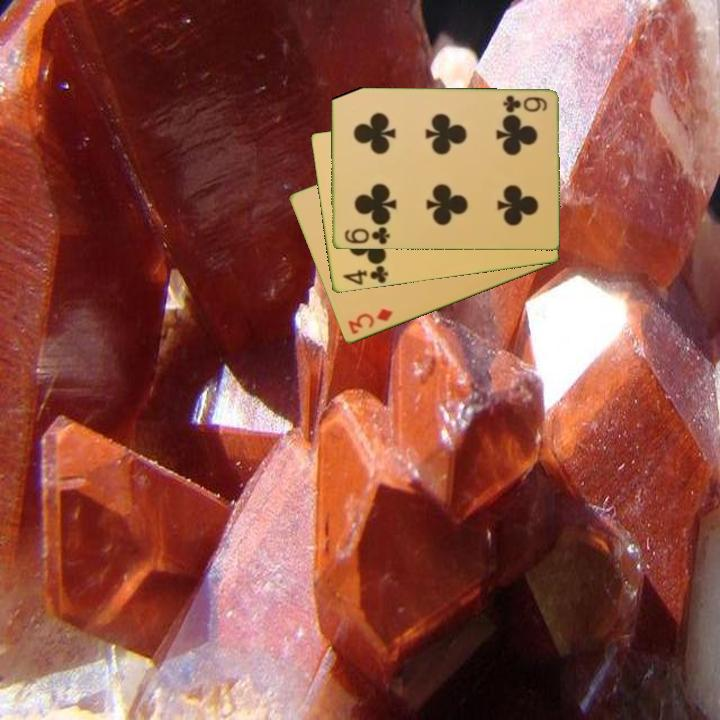3d: (344, 305, 396, 338)
4c: (339, 260, 391, 288)
6c: (341, 224, 392, 247), (499, 92, 549, 115)
